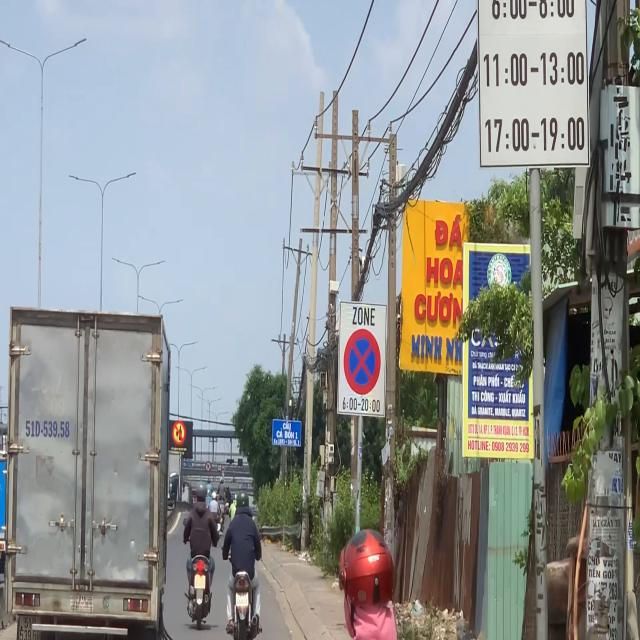Cam dung va do: (343, 328, 381, 394)
